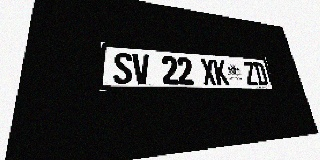2: (161, 55, 179, 85), (176, 56, 194, 85)
D: (253, 62, 269, 86)
K: (213, 59, 229, 85)
S: (113, 52, 132, 84)
V: (132, 53, 150, 84)
X: (200, 58, 217, 85)
Z: (242, 61, 258, 86)
